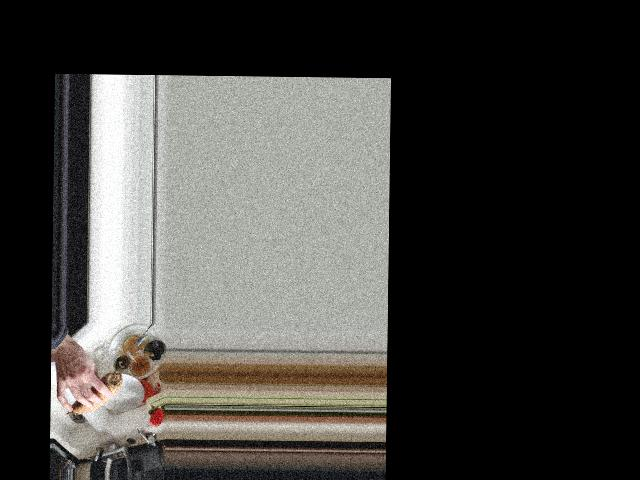sweet_potato: (65, 371, 120, 415)
